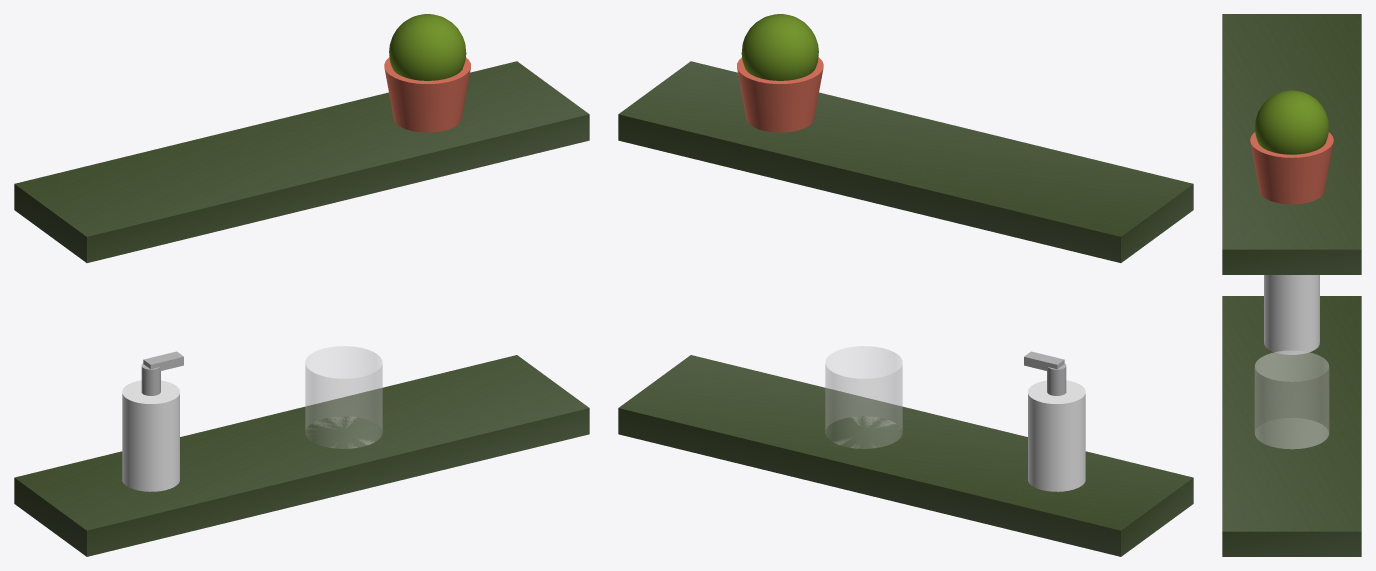
Rendered from state-default.glb.
3 views of the same model, side by side, from view 1: azimuth 30°, elevation 25°; view 2: azimuth 150°, elevation 25°; view 3: azimuth 270°, elevation 25° (orthographic). The views are drawn at different scales.
Visible parts, largest first — view 1: assetPrim:7e1f8523afa01-19c74098514:shelf-lower, assetPrim:7e1f8523afa01-19c74098514:shelf-upper, assetPrim:7e1f8523afa01-19c74098514:glass-jar, assetPrim:7e1f8523afa01-19c74098514:soap-bottle, assetPrim:7e1f8523afa01-19c74098514:plant-foliage, assetPrim:7e1f8523afa01-19c74098514:plant-pot; view 2: assetPrim:7e1f8523afa01-19c74098514:shelf-lower, assetPrim:7e1f8523afa01-19c74098514:shelf-upper, assetPrim:7e1f8523afa01-19c74098514:glass-jar, assetPrim:7e1f8523afa01-19c74098514:soap-bottle, assetPrim:7e1f8523afa01-19c74098514:plant-foliage, assetPrim:7e1f8523afa01-19c74098514:plant-pot; view 3: assetPrim:7e1f8523afa01-19c74098514:shelf-lower, assetPrim:7e1f8523afa01-19c74098514:shelf-upper, assetPrim:7e1f8523afa01-19c74098514:glass-jar, assetPrim:7e1f8523afa01-19c74098514:soap-bottle, assetPrim:7e1f8523afa01-19c74098514:plant-foliage, assetPrim:7e1f8523afa01-19c74098514:plant-pot.
Boxes of the visible parts, <box> form: assetPrim:7e1f8523afa01-19c74098514:shelf-lower: <box>14,355,589,556</box>; assetPrim:7e1f8523afa01-19c74098514:shelf-upper: <box>14,61,589,262</box>; assetPrim:7e1f8523afa01-19c74098514:glass-jar: <box>305,346,382,448</box>; assetPrim:7e1f8523afa01-19c74098514:soap-bottle: <box>122,380,179,491</box>; assetPrim:7e1f8523afa01-19c74098514:plant-foliage: <box>389,14,466,80</box>; assetPrim:7e1f8523afa01-19c74098514:plant-pot: <box>384,57,470,132</box>; assetPrim:7e1f8523afa01-19c74098514:shelf-lower: <box>618,355,1193,556</box>; assetPrim:7e1f8523afa01-19c74098514:shelf-upper: <box>618,61,1193,262</box>; assetPrim:7e1f8523afa01-19c74098514:glass-jar: <box>825,346,902,448</box>; assetPrim:7e1f8523afa01-19c74098514:soap-bottle: <box>1028,380,1085,491</box>; assetPrim:7e1f8523afa01-19c74098514:plant-foliage: <box>741,14,818,80</box>; assetPrim:7e1f8523afa01-19c74098514:plant-pot: <box>737,57,823,132</box>; assetPrim:7e1f8523afa01-19c74098514:shelf-lower: <box>1222,296,1361,556</box>; assetPrim:7e1f8523afa01-19c74098514:shelf-upper: <box>1222,14,1361,274</box>; assetPrim:7e1f8523afa01-19c74098514:glass-jar: <box>1254,350,1329,449</box>; assetPrim:7e1f8523afa01-19c74098514:soap-bottle: <box>1264,275,1319,354</box>; assetPrim:7e1f8523afa01-19c74098514:plant-foliage: <box>1255,90,1328,154</box>; assetPrim:7e1f8523afa01-19c74098514:plant-pot: <box>1250,132,1333,204</box>.
Size of the model in its own units: 0.6 by 0.48 by 0.15.
8 materials, 2 textured.
